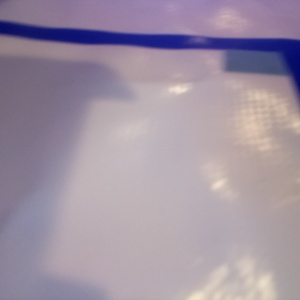bottom_left: (226, 39, 300, 76)
